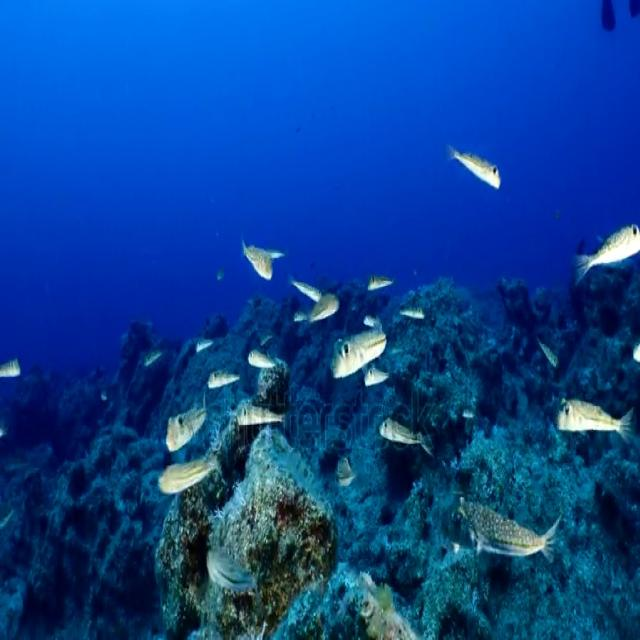Balon Baligi: (448, 487, 560, 570), (553, 384, 637, 454), (201, 537, 262, 616), (329, 312, 395, 381), (576, 214, 637, 283), (448, 142, 506, 194), (377, 401, 428, 458), (166, 390, 205, 451), (154, 461, 220, 496), (239, 392, 286, 433), (243, 237, 276, 283), (0, 347, 27, 395), (197, 363, 241, 391), (246, 342, 279, 378), (366, 268, 399, 293), (139, 340, 166, 370), (292, 274, 320, 302), (191, 331, 221, 355)
